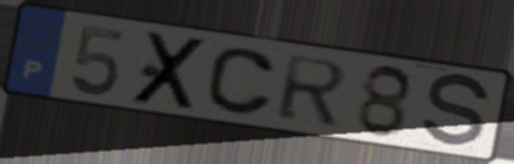5: (68, 22, 129, 98)
8: (352, 63, 417, 141)
C: (203, 45, 279, 119)
R: (274, 53, 352, 129)
S: (417, 71, 494, 151)
X: (127, 30, 213, 113)
